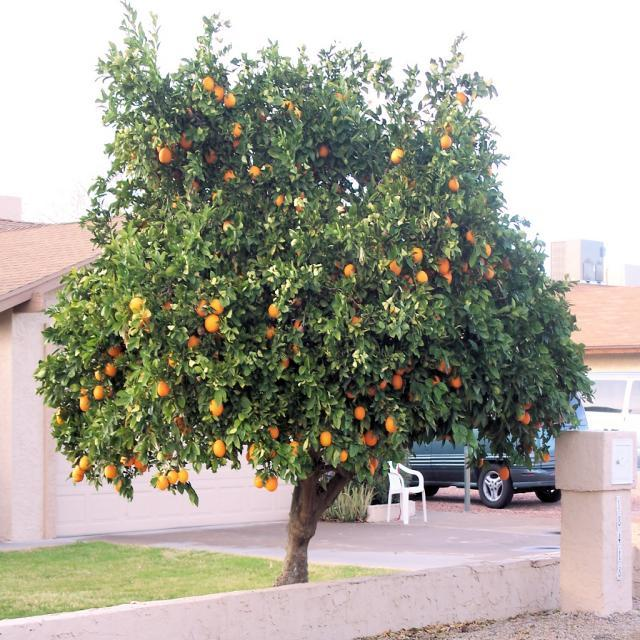Orange: (261, 299, 279, 328), (197, 312, 217, 338), (165, 470, 187, 486), (213, 433, 225, 460), (104, 356, 118, 378), (412, 267, 428, 281), (154, 473, 164, 490), (385, 422, 399, 431), (112, 346, 122, 358), (213, 299, 225, 309), (94, 388, 104, 398)
